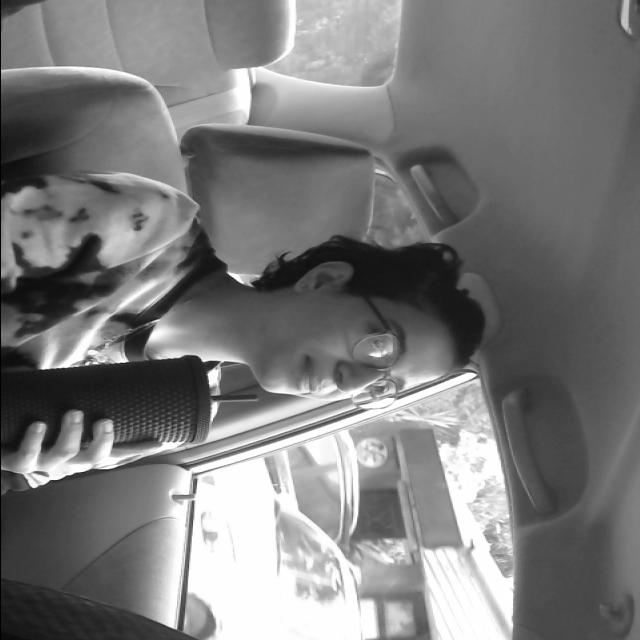drinking: (0, 344, 270, 478)
